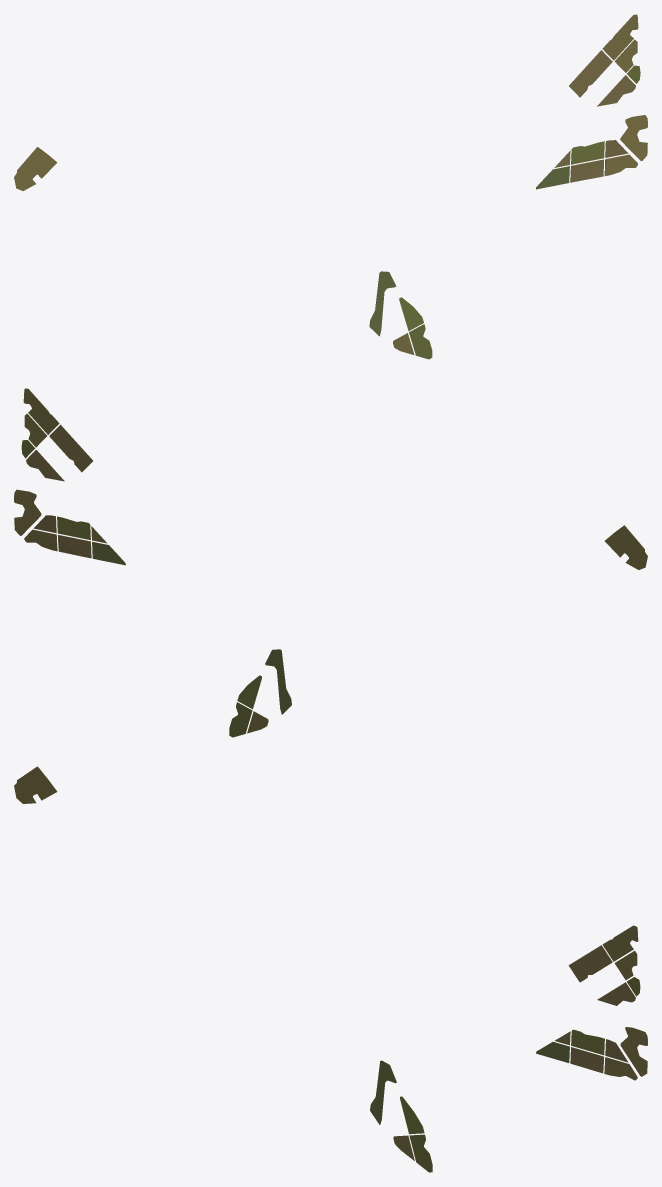
Rendered from context-field-faces.glb.
The picture shows the model from 3 angles, top to bottom: view 1: azimuth 30°, elevation 25°; view 2: azimuth 150°, elevation 25°; view 3: azimuth 330°, elevation 25°; orthographic projection.
Parts seen in each view (by area): view 1: world; view 2: world; view 3: world.
Boxes of the visible parts, x1=… form: world: x1=14, y1=14, x2=647, y2=359; world: x1=14, y1=388, x2=647, y2=737; world: x1=14, y1=766, x2=647, y2=1172.
Size of the model in its own units: 1005 by 466 by 8.17.
